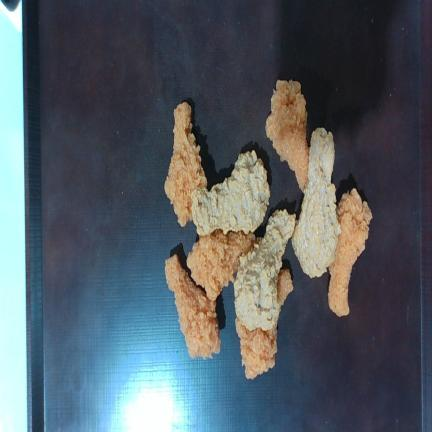chicken: (234, 209, 295, 330), (292, 128, 341, 277), (192, 151, 270, 235), (165, 254, 220, 359), (328, 188, 372, 316), (164, 102, 207, 226), (266, 80, 309, 191), (187, 230, 255, 300), (236, 318, 277, 379), (277, 269, 293, 305)
